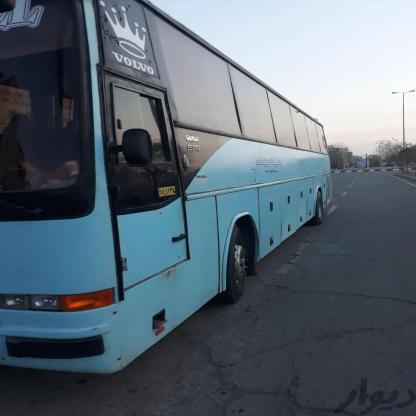Bus: (0, 0, 329, 395)
